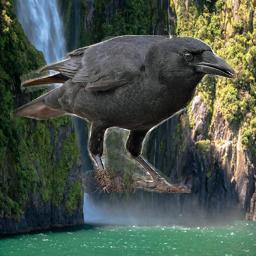Crow: (10, 35, 237, 193)
